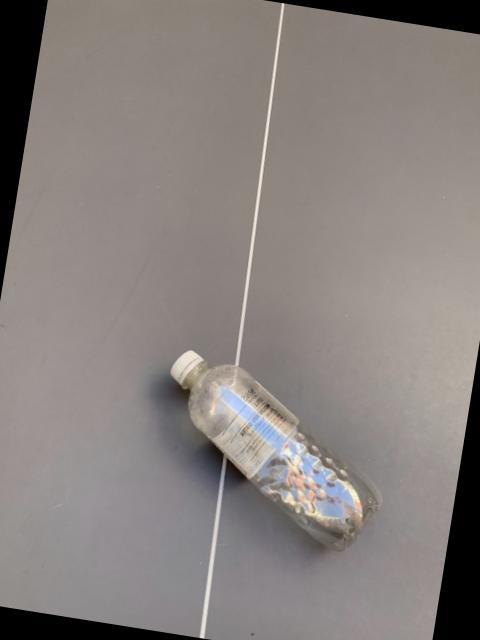plastic: (173, 350, 383, 549)
